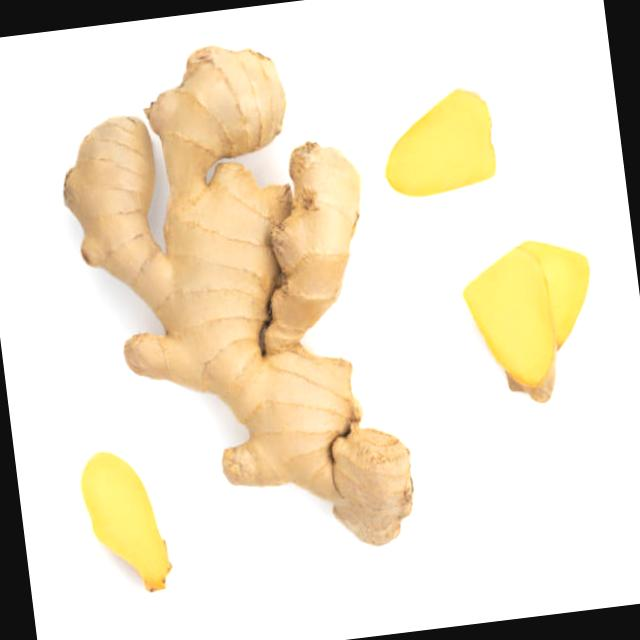ginger-root: (17, 17, 439, 582)
